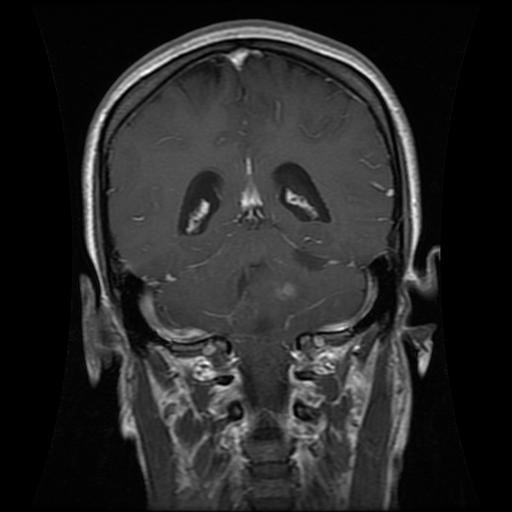Gliomia_tumour: (271, 272, 314, 307)
